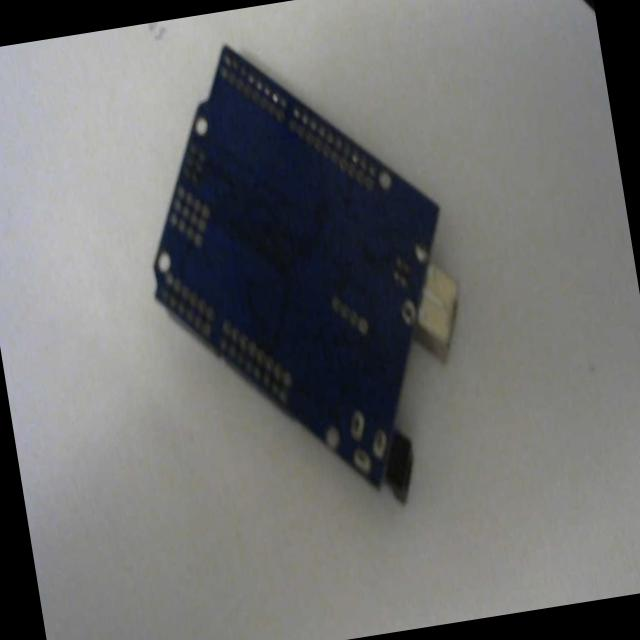arduino: (112, 5, 504, 549)
